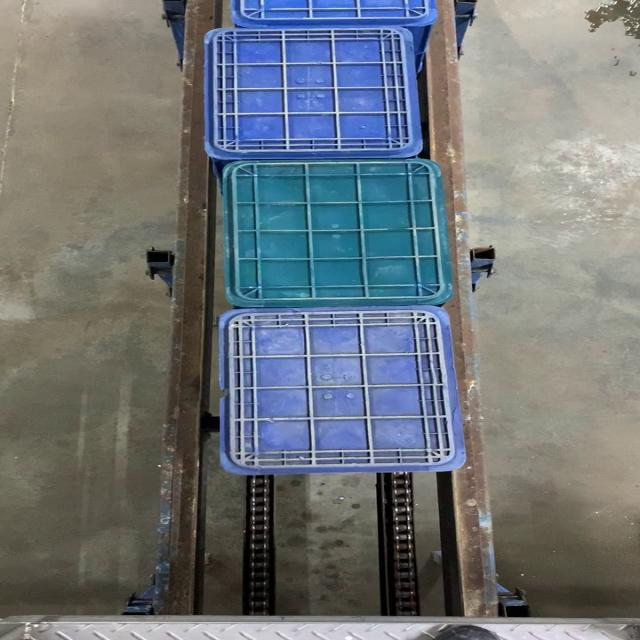Box: (220, 308, 466, 470), (226, 159, 448, 307), (202, 28, 423, 160)
